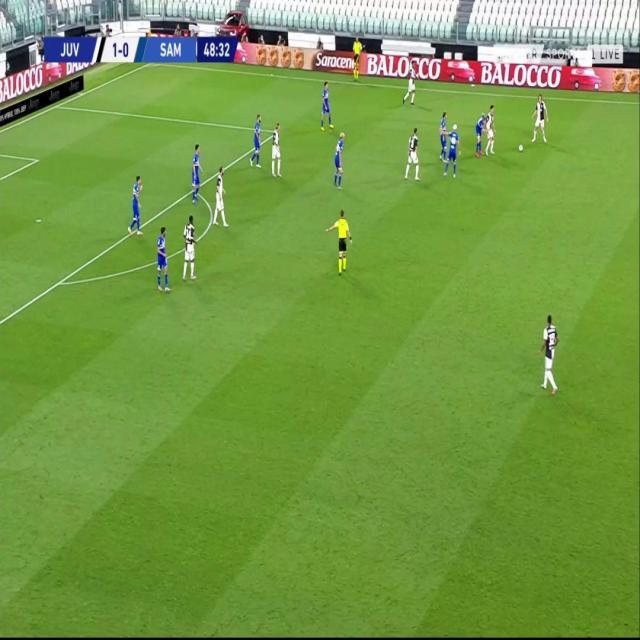ball: (518, 141, 525, 153)
player: (538, 311, 560, 394), (155, 223, 172, 293), (127, 174, 144, 239), (181, 214, 197, 283), (211, 166, 228, 228), (530, 92, 549, 144), (405, 125, 422, 183), (445, 121, 461, 180), (249, 113, 265, 169), (190, 142, 204, 204), (439, 110, 452, 174), (269, 120, 283, 178), (333, 131, 347, 189), (483, 103, 497, 158), (320, 79, 334, 131), (403, 64, 417, 106), (474, 110, 485, 156)
referee: (328, 210, 353, 275), (351, 37, 363, 81)
